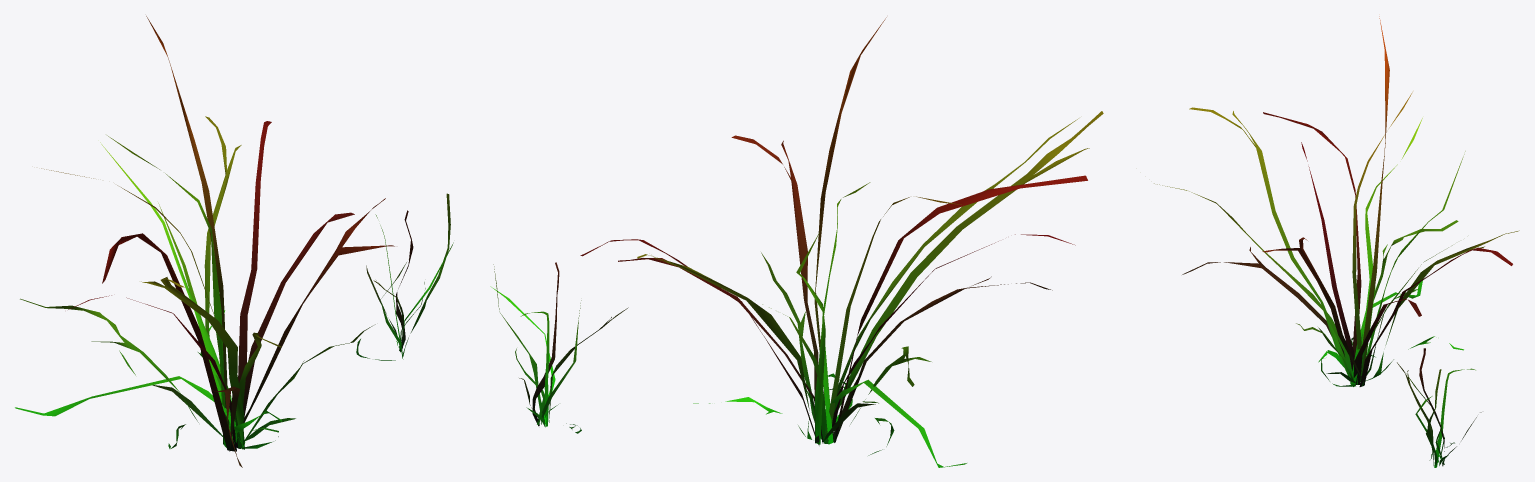
File: SM_OW_GrassTuft_a_LOD1.fbx
3 views of the same model, side by side, from view 1: azimuth 30°, elevation 25°; view 2: azimuth 150°, elevation 25°; view 3: azimuth 270°, elevation 25° (orthographic). The views are drawn at different scales.
Parts seen in each view (by area): view 1: SM_OW_GrassTuft_a_LOD1; view 2: SM_OW_GrassTuft_a_LOD1; view 3: SM_OW_GrassTuft_a_LOD1.
Boxes of the visible parts, <box> form: SM_OW_GrassTuft_a_LOD1: <box>15,16,453,467</box>; SM_OW_GrassTuft_a_LOD1: <box>490,17,1103,467</box>; SM_OW_GrassTuft_a_LOD1: <box>1154,16,1519,467</box>.
Size of the model in its own units: 0.4597 by 0.4041 by 0.4145.
